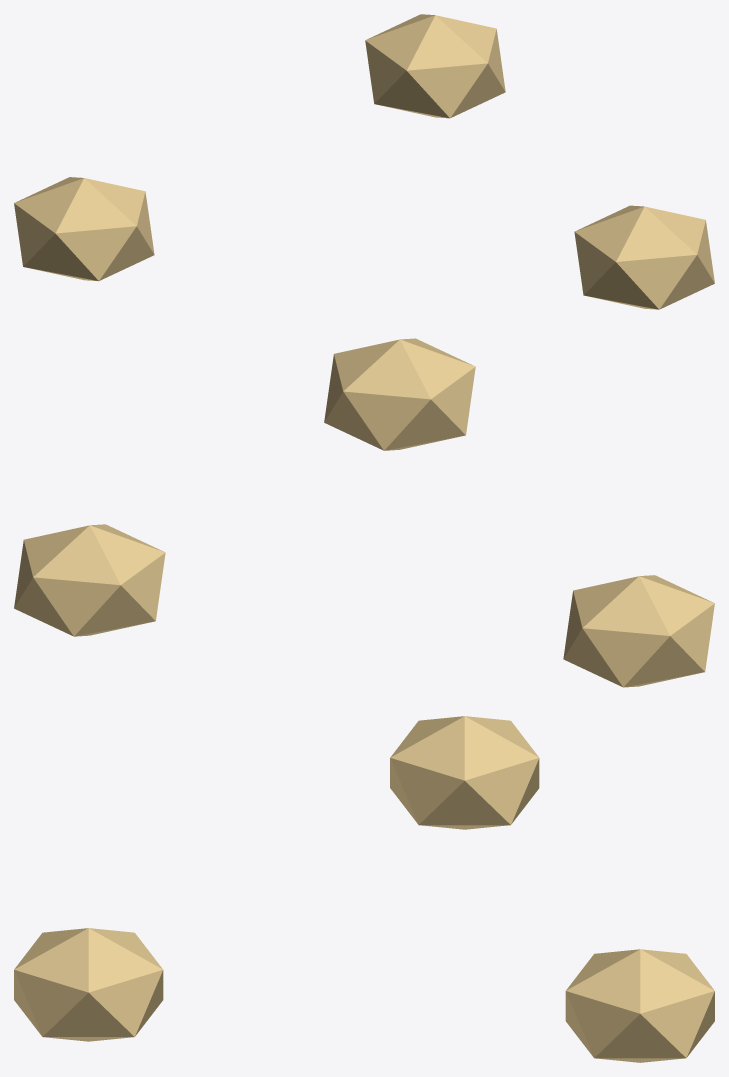
File: crop_0.glb
3 views of the same model, one above another, from view 1: azimuth 30°, elevation 25°; view 2: azimuth 150°, elevation 25°; view 3: azimuth 270°, elevation 25° (orthographic). The views are drawn at different scales.
Visible parts, largest first — view 1: Crop; view 2: Crop; view 3: Crop.
Boxes of the visible parts, box(x1,y1,x2,y2) form: Crop: box(14, 14, 714, 309); Crop: box(14, 338, 714, 687); Crop: box(14, 716, 714, 1062).
Bounding box in the file's own units: 0.2826 × 0.05 × 0.2795.
